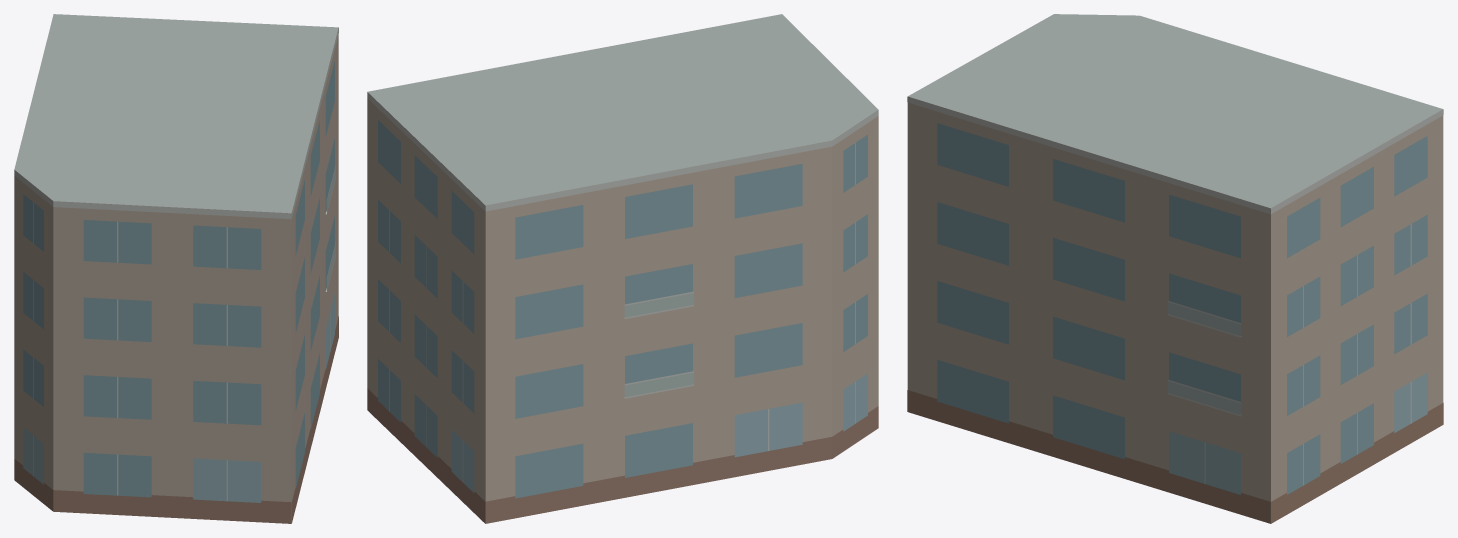
The model's file is survey-upis-32910907.glb.
The picture shows the model from 3 angles, left to right: view 1: azimuth 30°, elevation 25°; view 2: azimuth 150°, elevation 25°; view 3: azimuth 270°, elevation 25°; orthographic projection. The views are drawn at different scales.
Visible parts, largest first — view 1: survey-upis-32910907.tmp; view 2: survey-upis-32910907.tmp; view 3: survey-upis-32910907.tmp.
Boxes of the visible parts, left/top/right/bottom form: survey-upis-32910907.tmp: left=14, top=14, right=338, bottom=523; survey-upis-32910907.tmp: left=367, top=14, right=878, bottom=523; survey-upis-32910907.tmp: left=907, top=14, right=1443, bottom=523.
Bounding box in the file's own units: 16.92 × 12.8 × 19.71.
